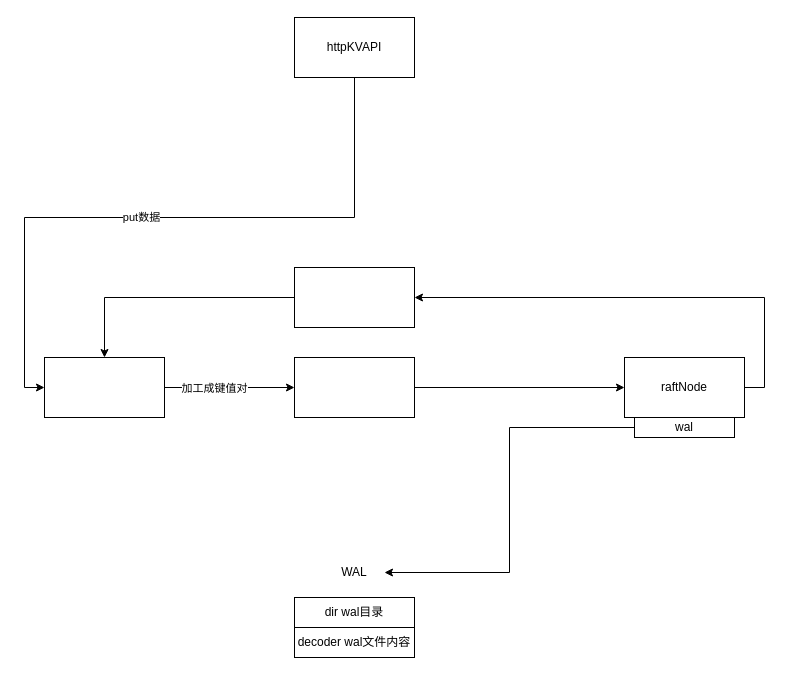
Image size: 790x675. Some labels were removed from this diagram. The shapes that lost their labels are listed below. From the top down, each one's box as (x1, y1, x2, y2) in pixels, then its label:
(294, 266, 414, 328): commitCh
(44, 356, 164, 418): KVStore
(294, 356, 414, 418): proposeCh
